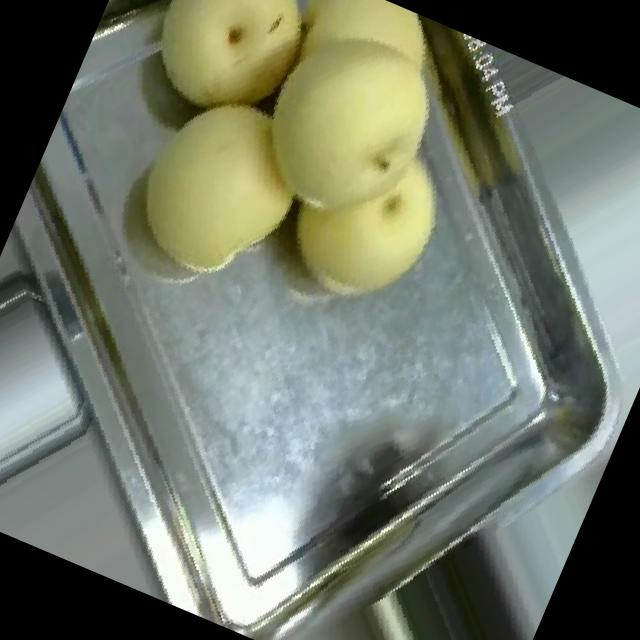Fruit: (174, 0, 533, 348), (94, 51, 349, 322), (103, 0, 354, 163)
